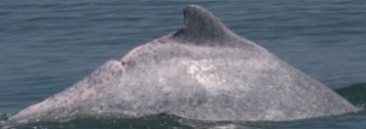fin: (3, 4, 362, 125)
